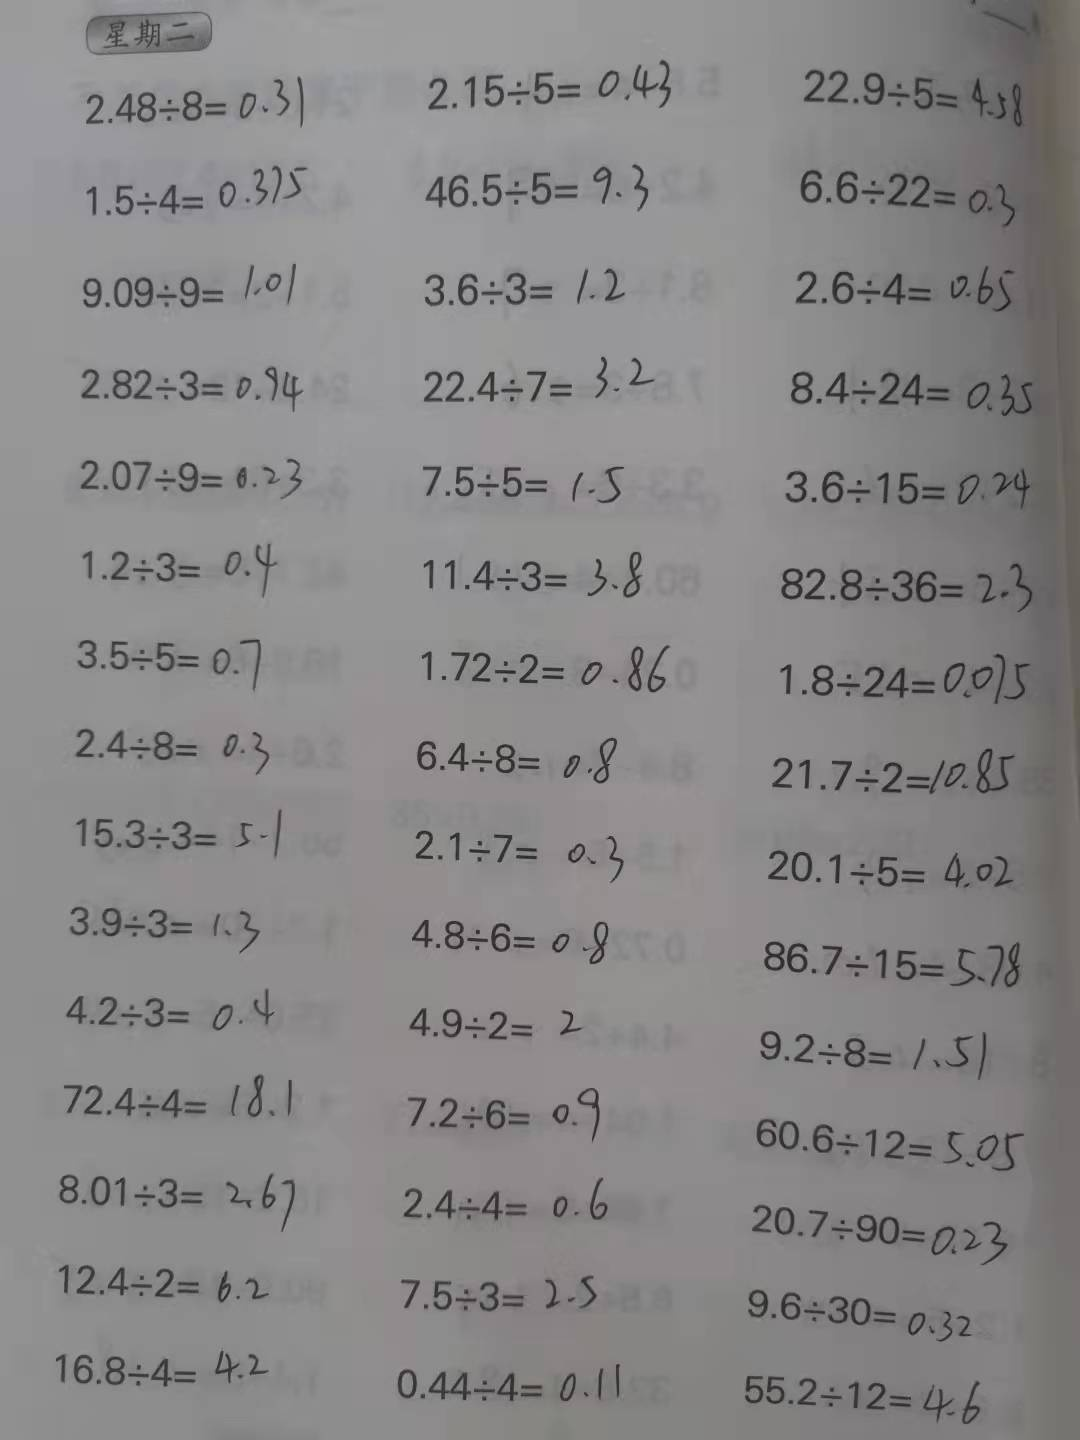equation: (746, 925, 1026, 1007), (737, 1188, 1015, 1269), (41, 1160, 305, 1243), (744, 1104, 1027, 1180), (778, 345, 1047, 422), (771, 551, 1043, 626), (405, 628, 675, 700), (791, 53, 1037, 132), (77, 243, 305, 327), (754, 740, 1031, 808), (53, 1064, 304, 1137), (75, 149, 317, 225), (398, 814, 632, 892), (732, 1284, 990, 1354), (77, 63, 315, 138), (424, 54, 683, 122), (61, 443, 331, 508), (781, 252, 1024, 322), (788, 159, 1019, 232), (68, 353, 313, 422), (765, 647, 1035, 710), (390, 1077, 610, 1152), (54, 882, 268, 958), (416, 159, 663, 225), (750, 1017, 1007, 1079), (773, 449, 1038, 509), (68, 795, 287, 867), (56, 713, 279, 783), (79, 528, 282, 605), (753, 837, 1014, 896), (389, 723, 623, 789), (49, 980, 286, 1044), (404, 252, 635, 317), (388, 1352, 641, 1411), (66, 622, 269, 695), (416, 543, 651, 605), (54, 1252, 280, 1316), (413, 449, 646, 510), (382, 1269, 610, 1331), (399, 907, 613, 971), (389, 1174, 618, 1233), (47, 1340, 280, 1395), (417, 354, 661, 405), (402, 994, 588, 1051)
